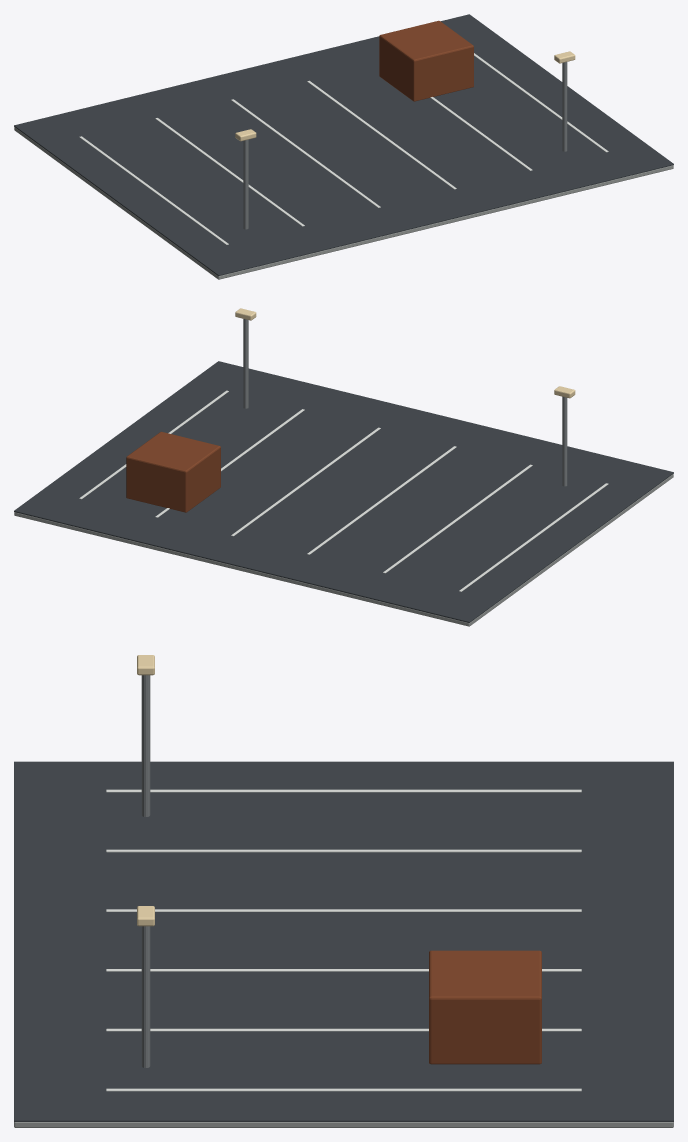
File: neighborhood_parking_loading_a.glb
3 views of the same model, one above another, from view 1: azimuth 30°, elevation 25°; view 2: azimuth 150°, elevation 25°; view 3: azimuth 270°, elevation 25° (orthographic). The views are drawn at different scales.
Visible parts, largest first — view 1: SET_ParkingSurface, PROP_LoadingCrates, SET_Ground, SET_LampPost_0, SET_LampPost_1, SET_ParkingLine_0, SET_ParkingLine_2, SET_ParkingLine_3, SET_ParkingLine_1, SET_ParkingLine_5; view 2: SET_ParkingSurface, PROP_LoadingCrates, SET_Ground, SET_LampPost_0, SET_LampPost_1, SET_ParkingLine_0, SET_ParkingLine_2, SET_ParkingLine_3, SET_ParkingLine_1; view 3: SET_ParkingSurface, PROP_LoadingCrates, SET_Ground, SET_ParkingLine_5, SET_ParkingLine_1, SET_ParkingLine_0, SET_ParkingLine_4, SET_LampPost_0, SET_LampPost_1, SET_ParkingLine_2, SET_ParkingLine_3.
Part boxes in pixels (left/top/right/bottom): SET_ParkingSurface: left=14, top=14, right=673, bottom=276; PROP_LoadingCrates: left=379, top=20, right=473, bottom=101; SET_Ground: left=14, top=127, right=673, bottom=279; SET_LampPost_0: left=243, top=139, right=248, bottom=229; SET_LampPost_1: left=562, top=62, right=567, bottom=151; SET_ParkingLine_0: left=79, top=136, right=228, bottom=244; SET_ParkingLine_2: left=231, top=99, right=380, bottom=207; SET_ParkingLine_3: left=307, top=80, right=456, bottom=189; SET_ParkingLine_1: left=155, top=118, right=304, bottom=226; SET_ParkingLine_5: left=474, top=53, right=608, bottom=152; SET_ParkingSurface: left=14, top=361, right=673, bottom=622; PROP_LoadingCrates: left=126, top=431, right=220, bottom=512; SET_Ground: left=14, top=474, right=673, bottom=626; SET_LampPost_0: left=562, top=396, right=567, bottom=486; SET_LampPost_1: left=243, top=319, right=248, bottom=408; SET_ParkingLine_0: left=459, top=483, right=608, bottom=591; SET_ParkingLine_2: left=307, top=446, right=456, bottom=554; SET_ParkingLine_3: left=231, top=427, right=380, bottom=536; SET_ParkingLine_1: left=383, top=464, right=532, bottom=573; SET_ParkingSurface: left=14, top=761, right=673, bottom=1121; PROP_LoadingCrates: left=429, top=950, right=541, bottom=1064; SET_Ground: left=14, top=1122, right=673, bottom=1127; SET_ParkingLine_5: left=106, top=1088, right=581, bottom=1091; SET_ParkingLine_1: left=106, top=849, right=581, bottom=852; SET_ParkingLine_0: left=106, top=789, right=581, bottom=792; SET_ParkingLine_4: left=106, top=1028, right=581, bottom=1031; SET_LampPost_0: left=141, top=675, right=150, bottom=816; SET_LampPost_1: left=141, top=926, right=150, bottom=1067; SET_ParkingLine_2: left=106, top=909, right=581, bottom=911; SET_ParkingLine_3: left=106, top=969, right=581, bottom=971.
Size of what is drawn, in the model's own units: 18 by 3.81 by 14.
